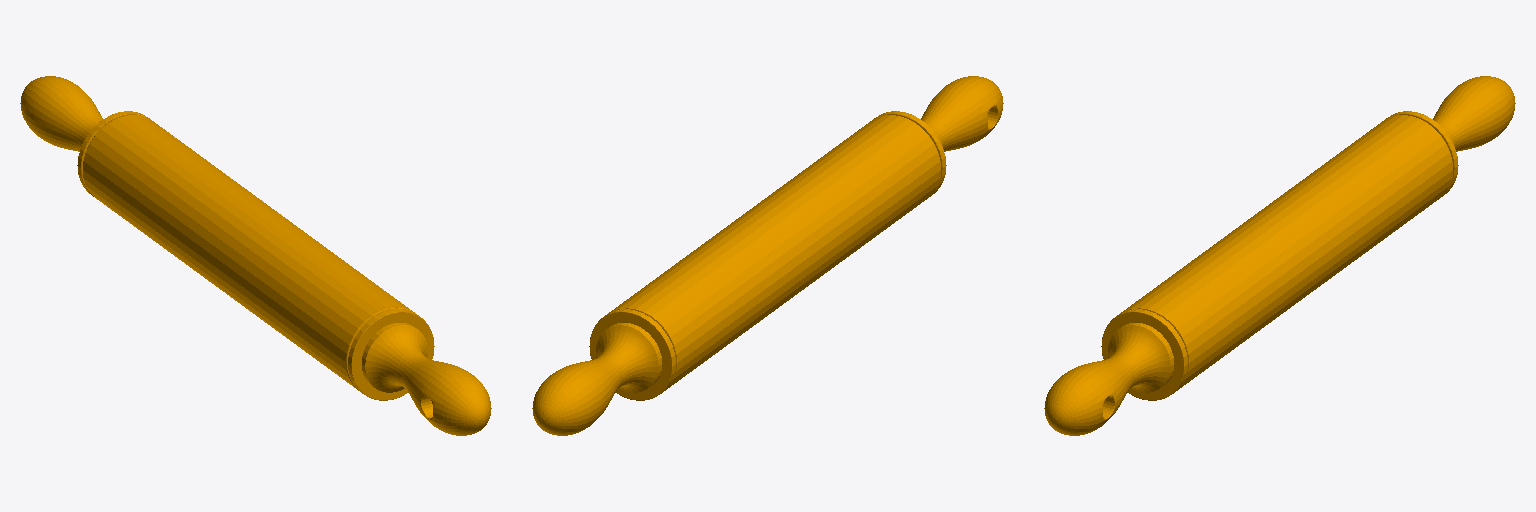
URDF robot description (rolling_pin):
<robot name="rolling_pin">
    <link name="rolling_pin">
        <visual>
            <geometry>
                <mesh filename="rolling_pin.stl" />
            </geometry>
        </visual>
        <collision>
            <geometry>
                <mesh filename="rolling_pin.stl"/>
            </geometry>
        </collision>
    </link>
</robot>

--- What the picture shows (computed from the rendered views, not written in the file) ---
3 views of the same robot in one strip: view 1: azimuth 30°, elevation 25°; view 2: azimuth 150°, elevation 25°; view 3: azimuth 330°, elevation 25° (orthographic).
Model rolling_pin with 1 links and 0 joints (none), rooted at rolling_pin, posed every joint at zero.
Links seen in each view (by area): view 1: rolling_pin; view 2: rolling_pin; view 3: rolling_pin.
Link boxes in pixels (x1,y1,x2,y2): rolling_pin: [20, 76, 491, 435]; rolling_pin: [532, 76, 1003, 435]; rolling_pin: [1044, 76, 1515, 435].
Bounding box of the posed robot: 0.0376 × 0.3501 × 0.0376 m (x, y, z).
1 mesh visuals loaded from 1 distinct referenced files (1 binary STL).